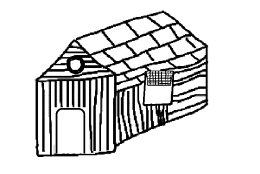door: (51, 105, 88, 160)
open_window: (139, 66, 177, 110)
roof: (36, 10, 209, 81)
wall: (31, 38, 119, 164), (112, 44, 214, 147)
